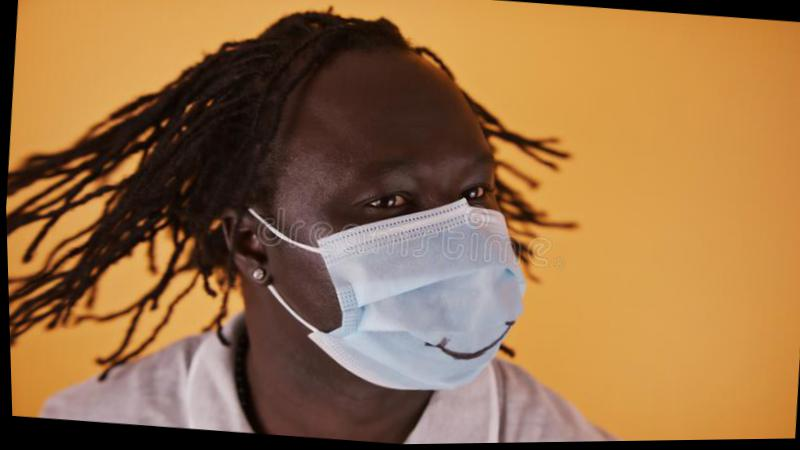OK: (278, 124, 533, 408)
